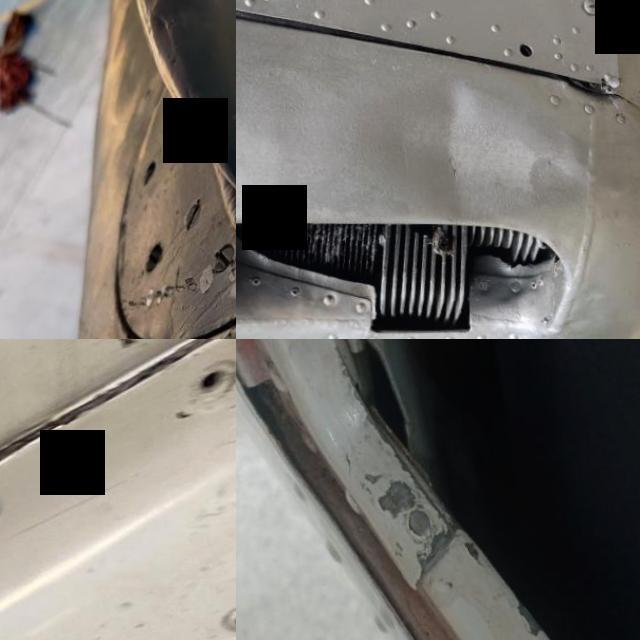Crack: (340, 430, 630, 640)
Dent: (296, 64, 590, 232)
Missing_Fastener: (182, 359, 236, 399), (502, 22, 546, 66)
